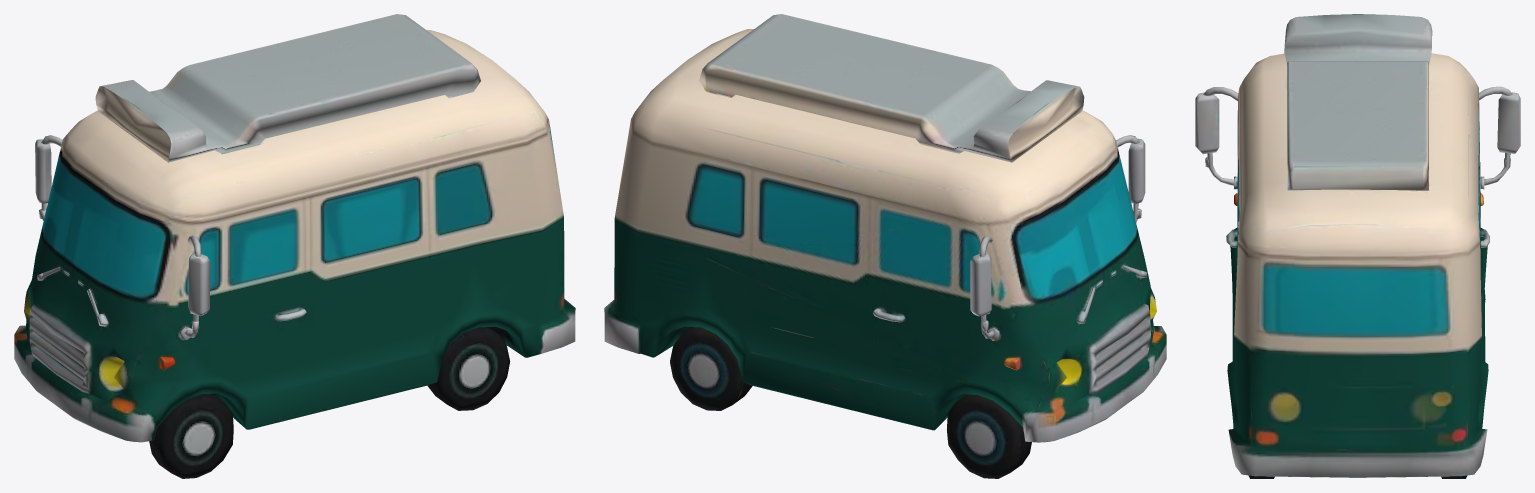
Rendered from bus_stop.glb.
3 views of the same model, side by side, from view 1: azimuth 30°, elevation 25°; view 2: azimuth 150°, elevation 25°; view 3: azimuth 270°, elevation 25° (orthographic). The views are drawn at different scales.
Size of the model in its own units: 0.9531 by 0.6401 by 0.5786.
1 material, 1 textured.
